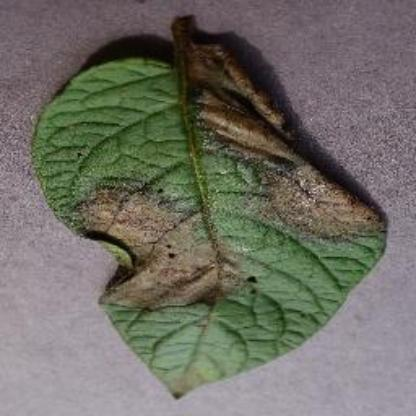Late-Blight: (25, 13, 393, 400)
